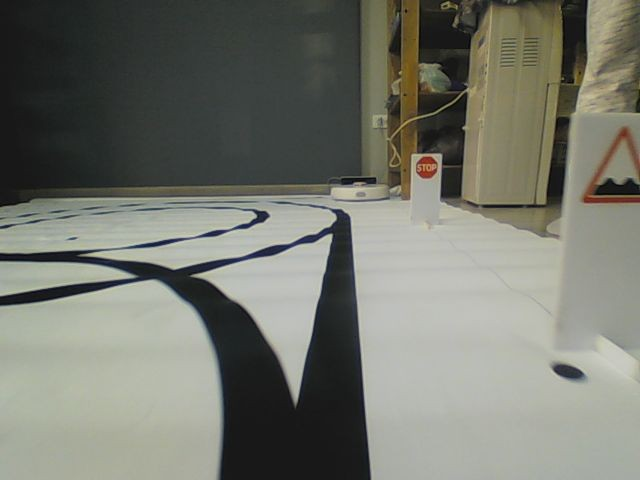Stop: (413, 156, 440, 179)
